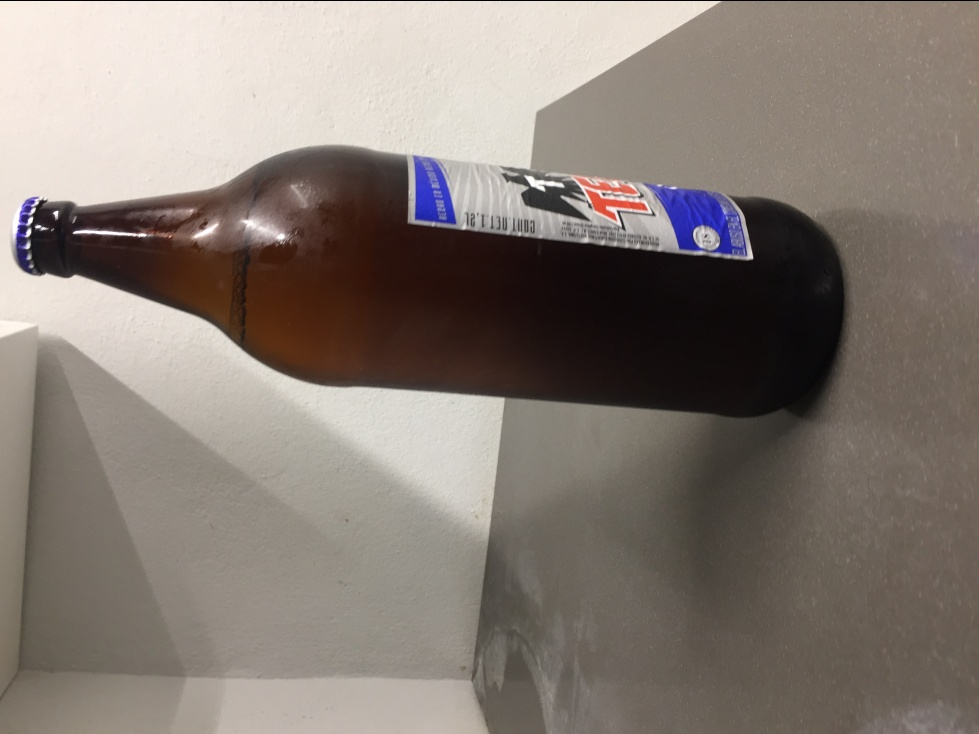tecateC: (11, 146, 842, 423)
